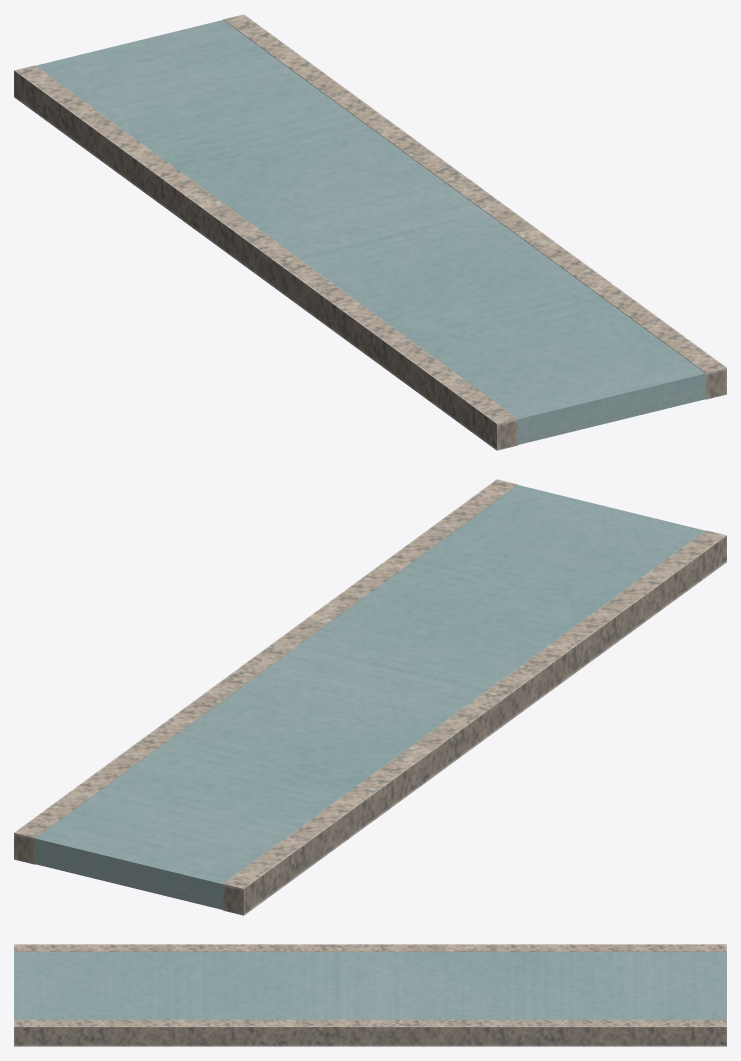
Rendered from set_base_a_01.fbx.
The picture shows the model from 3 angles, top to bottom: view 1: azimuth 30°, elevation 25°; view 2: azimuth 150°, elevation 25°; view 3: azimuth 270°, elevation 25°; orthographic projection. The views are drawn at different scales.
Parts seen in each view (by area): view 1: set_base_a_01; view 2: set_base_a_01; view 3: set_base_a_01.
Boxes of the visible parts, x1,y1,x2,y2 form: set_base_a_01: (14, 14, 726, 450); set_base_a_01: (14, 479, 726, 915); set_base_a_01: (14, 944, 726, 1046).
Bounding box in the file's own units: 110 × 12.25 × 400.
